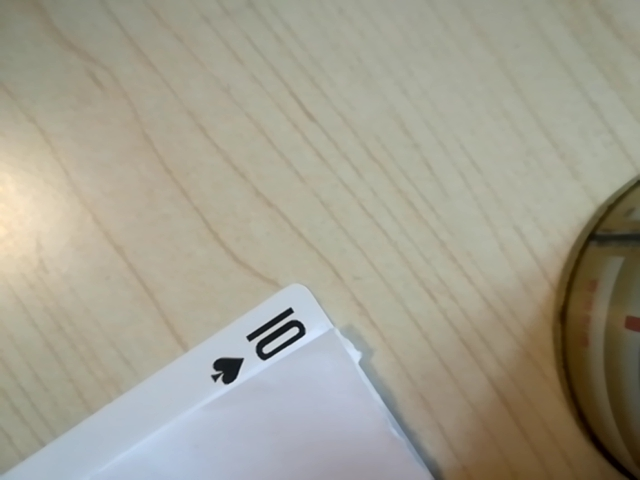ht 10: (195, 305, 325, 392)
